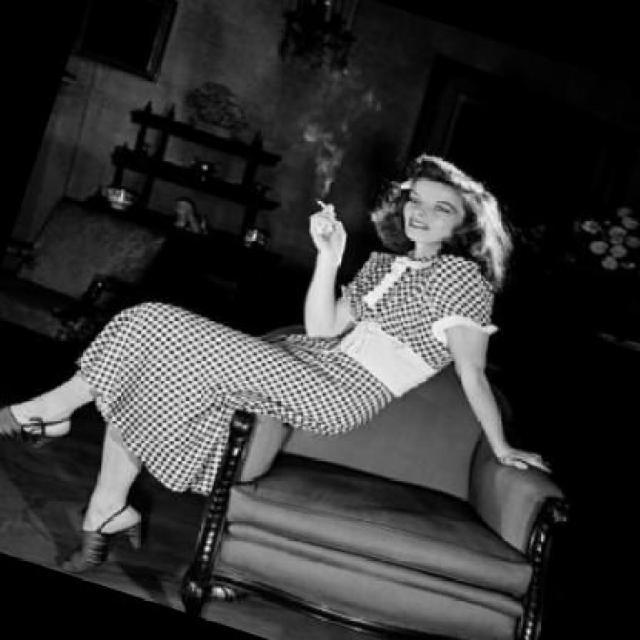cigarette: (307, 194, 335, 214)
